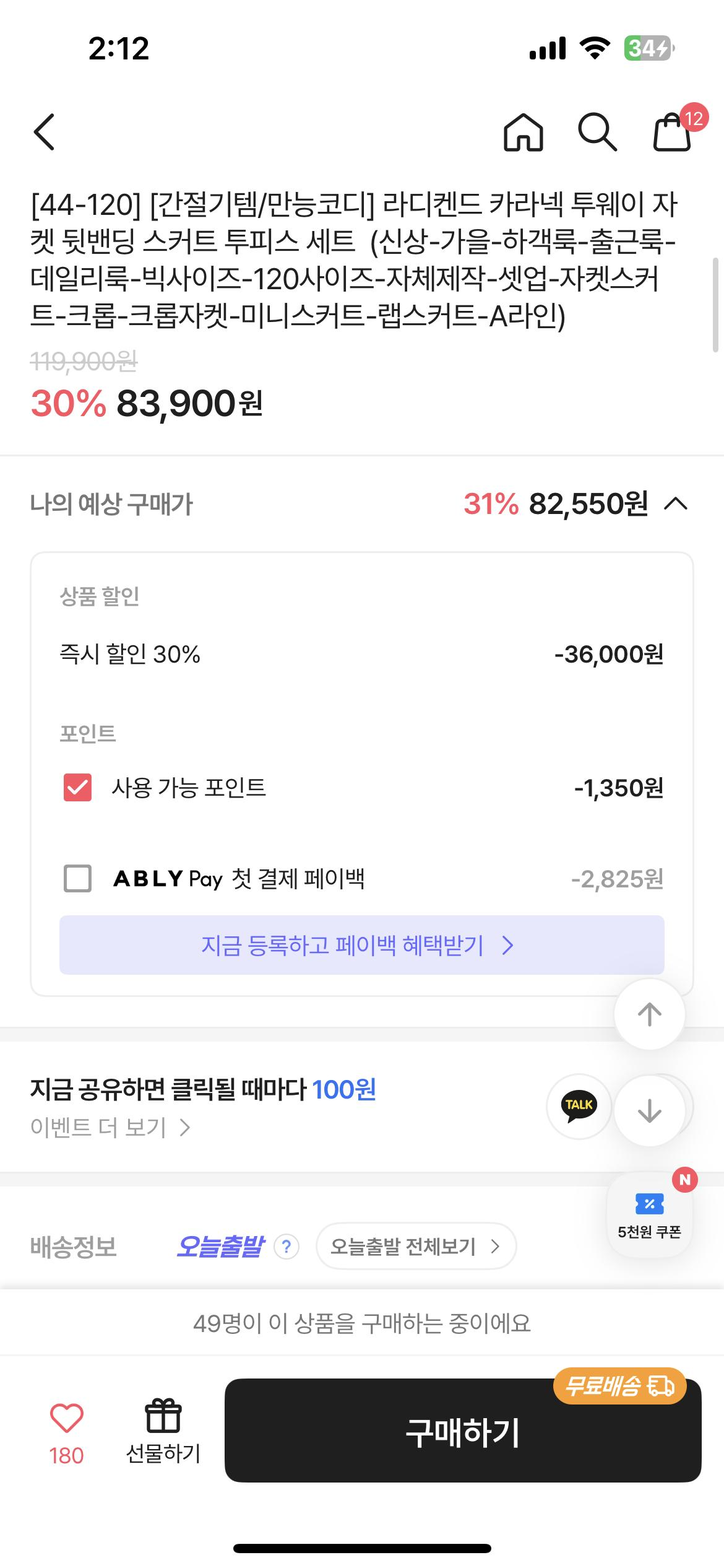button: (219, 1387, 701, 1484), (192, 923, 522, 960), (311, 1226, 540, 1267), (120, 1373, 210, 1457), (29, 1389, 101, 1470), (182, 1228, 311, 1263), (615, 1175, 685, 1228), (563, 1092, 637, 1133), (639, 109, 718, 144), (497, 109, 547, 157), (569, 114, 625, 155), (617, 989, 668, 1034), (19, 1109, 182, 1123), (27, 109, 74, 155), (635, 1102, 691, 1139)
checkbox: (66, 753, 281, 803), (70, 863, 365, 890)
